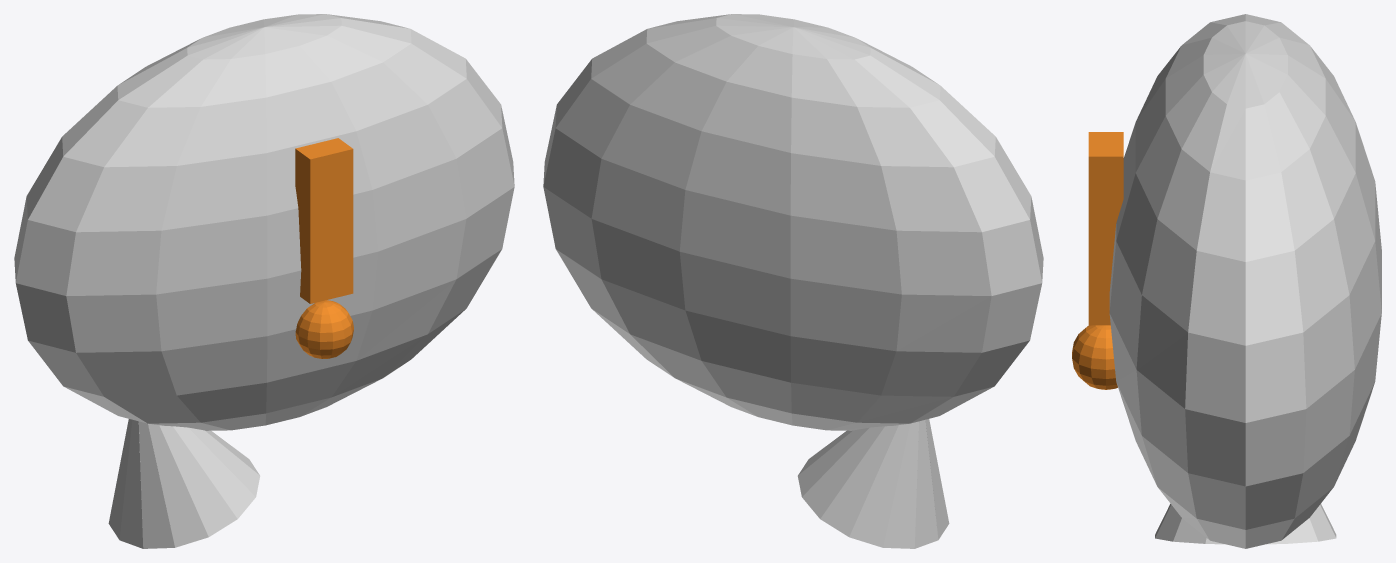
The model's file is Item_Burp.obj.
3 views of the same model, side by side, from view 1: azimuth 30°, elevation 25°; view 2: azimuth 150°, elevation 25°; view 3: azimuth 270°, elevation 25° (orthographic). The views are drawn at different scales.
Visible parts, largest first — view 1: Item_Burp; view 2: Item_Burp; view 3: Item_Burp.
Part boxes in pixels (<box>): Item_Burp: <box>14,14,514,548</box>; Item_Burp: <box>543,14,1043,548</box>; Item_Burp: <box>1072,14,1381,548</box>.
Size of the model in its own units: 0.576 by 0.5285 by 0.2662.
